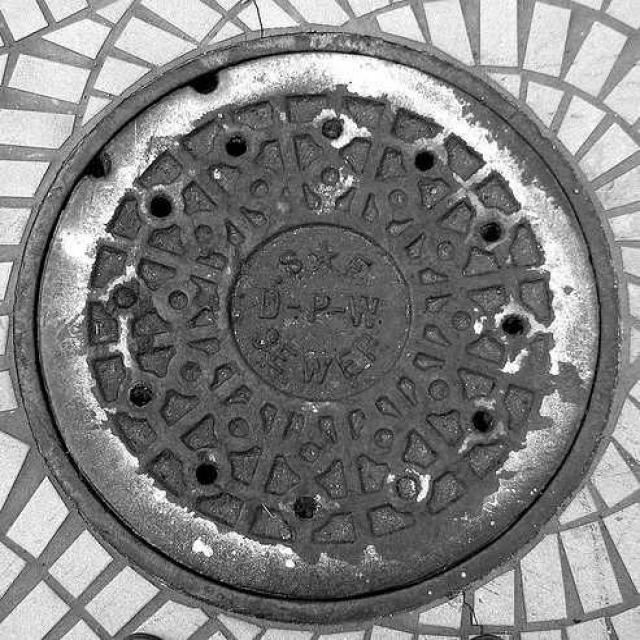manhole: (15, 34, 616, 619)
